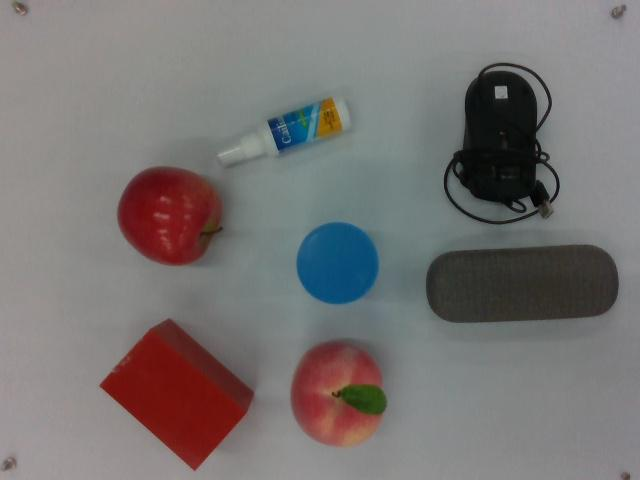apple: (119, 163, 222, 267)
cuboid: (94, 316, 258, 472)
cylinder: (290, 219, 383, 309)
detergent: (216, 96, 357, 169)
glassescase: (424, 244, 620, 326)
mouse: (446, 59, 563, 223)
peach: (287, 335, 391, 449)
